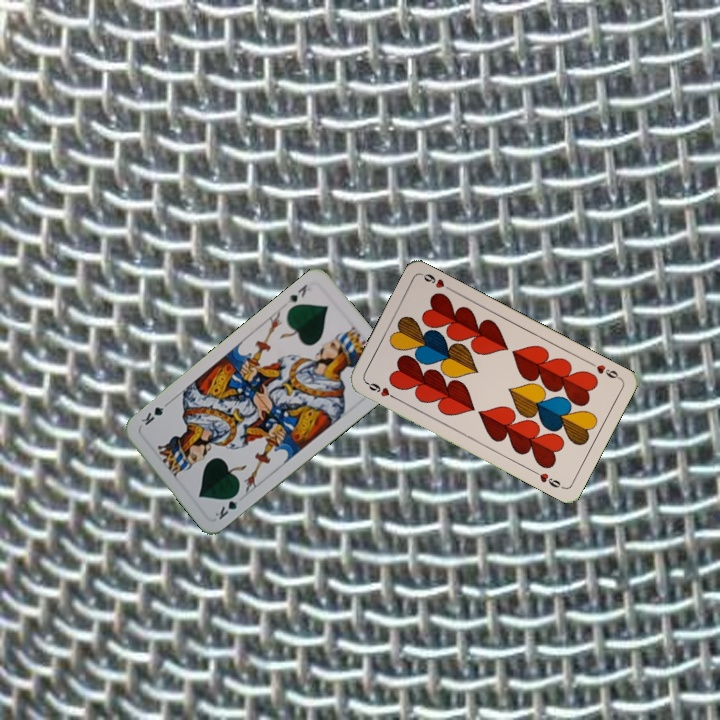GK: (211, 488, 243, 522), (283, 280, 310, 307)
H9: (585, 358, 623, 382), (362, 378, 400, 402)
